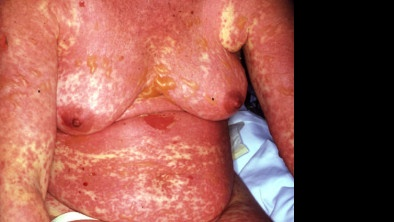SJS-TEN: (0, 0, 301, 222)
